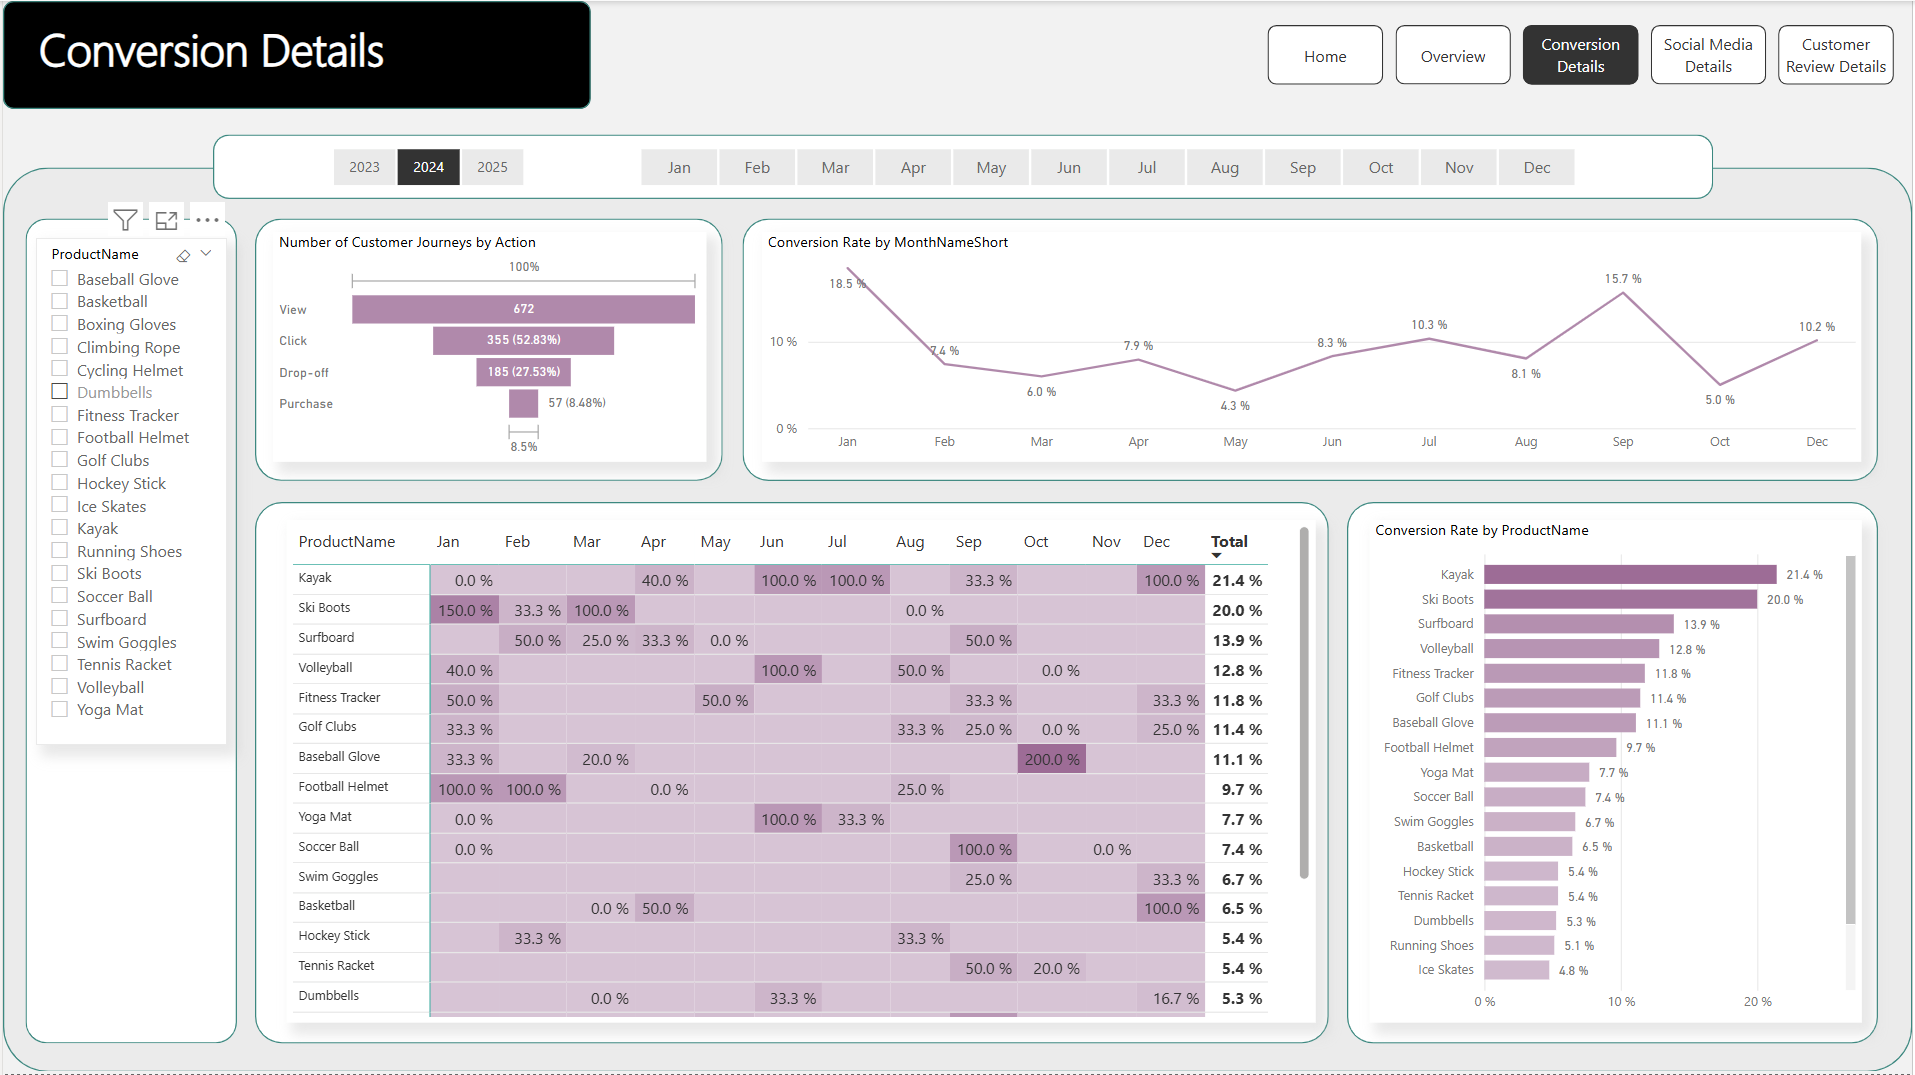

What the dashboard file says about the page in this screenshot:
{"tool":"powerbi","page":{"name":"Conversion Details","canvas":[1600,900],"ordinal":2},"visuals":[{"type":"shape","box":[0,139.6,1600.4,758.1],"z":0},{"type":"shape","box":[1126.5,419.9,445.1,453.9],"z":1000},{"type":"shape","box":[211.2,182.3,392.3,220],"z":2000},{"type":"shape","box":[211.2,419.9,900.2,453.9],"z":3000},{"type":"shape","box":[619.8,182.3,951.7,220],"z":4000},{"type":"shape","box":[18.9,182.3,177.3,691.5],"z":5000},{"type":"shape","box":[176,111.9,1257.2,54.1],"z":6000},{"type":"slicer","fields":{"Values":["dim_products.ProductName"]},"box":[27.7,198.6,159.7,424.9],"z":7000},{"type":"card","fields":{"Values":["_Calculations.Conversion Rate"]},"box":[237.6,199.9,124.5,186.1],"z":8000},{"type":"lineChart","fields":{"Y":["_Calculations.Conversion Rate"],"Category":["Calendar.MonthNameShort"]},"box":[636.1,193.6,921.5,192.4],"z":9000},{"type":"clusteredBarChart","fields":{"Category":["dim_products.ProductName"],"Y":["_Calculations.Conversion Rate"]},"box":[1145.3,435,412.4,421.2],"z":10000},{"type":"slicer","fields":{"Values":["Calendar.Year"]},"box":[251.4,116.9,208.7,44],"z":11000},{"type":"slicer","fields":{"Values":["Calendar.MonthNameShort"]},"box":[509.2,116.9,832.3,44],"z":12000},{"type":"pivotTable","fields":{"Rows":["dim_products.ProductName"],"Values":["_Calculations.Conversion Rate"],"Columns":["Calendar.MonthNameShort"]},"box":[237.6,437.5,862.4,418.7],"z":13000},{"type":"funnel","fields":{"Category":["fact_customer_journey.Action"],"Y":["_Calculations.Number of Customer Journeys"]},"box":[226.3,193.6,363.3,192.4],"z":14000},{"type":"shape","box":[0,0,492.8,90.5],"z":15000},{"type":"pageNavigator","box":[1059.8,20.1,526.8,50.3],"z":16000},{"type":"textbox","box":[25.1,8.8,345.7,71.7],"z":17000}]}

Visuals, with their boxes in screenshot pixels (x1, y1, x2, y2), scaled from the page's 1600x900 canvas onto the 1915x1075 screenshot:
shape: detection(0, 167, 1914, 1072)
shape: detection(1348, 502, 1881, 1044)
shape: detection(253, 218, 722, 481)
shape: detection(253, 502, 1330, 1044)
shape: detection(742, 218, 1881, 481)
shape: detection(23, 218, 235, 1044)
shape: detection(211, 134, 1715, 198)
slicer - dim_products.ProductName: detection(33, 237, 224, 745)
card - _Calculations.Conversion Rate: detection(284, 239, 433, 461)
lineChart - _Calculations.Conversion Rate x Calendar.MonthNameShort: detection(761, 231, 1864, 461)
clusteredBarChart - dim_products.ProductName x _Calculations.Conversion Rate: detection(1371, 520, 1864, 1023)
slicer - Calendar.Year: detection(301, 140, 551, 192)
slicer - Calendar.MonthNameShort: detection(609, 140, 1606, 192)
pivotTable - dim_products.ProductName x _Calculations.Conversion Rate: detection(284, 523, 1317, 1023)
funnel - fact_customer_journey.Action x _Calculations.Number of Customer Journeys: detection(271, 231, 706, 461)
shape: detection(0, 0, 590, 108)
pageNavigator: detection(1268, 24, 1899, 84)
textbox: detection(30, 11, 444, 96)
